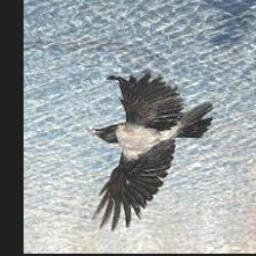Crow: (89, 74, 214, 233)
